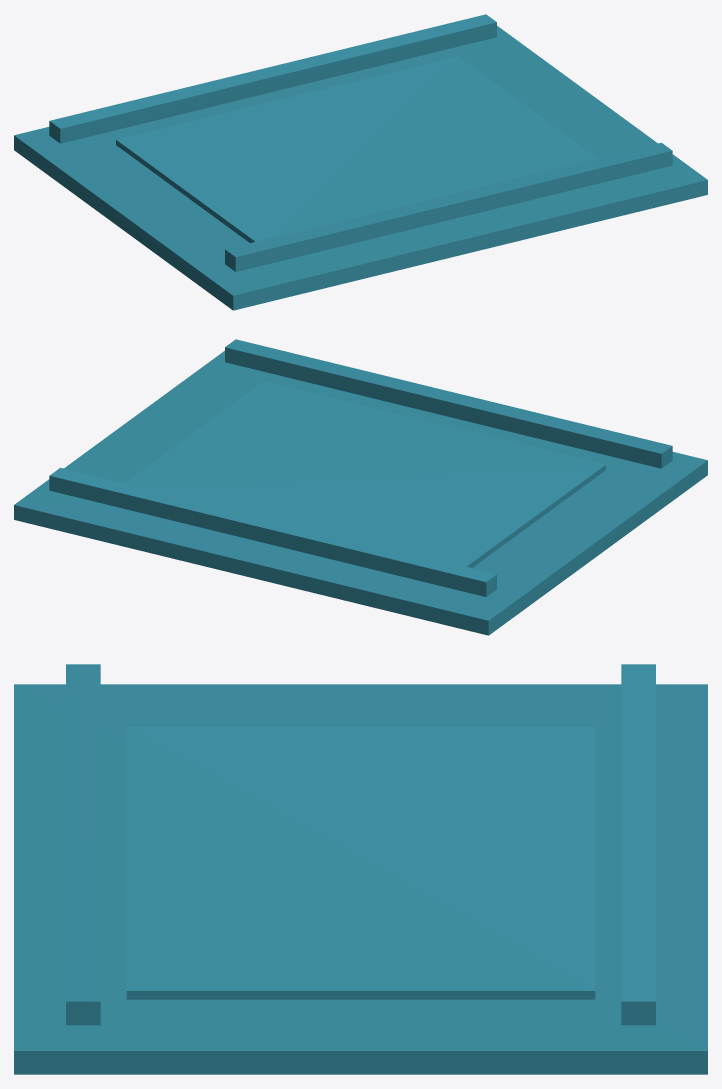
The model's file is Pond.glb.
3 renders of one model, top to bottom at view 1: azimuth 30°, elevation 25°; view 2: azimuth 150°, elevation 25°; view 3: azimuth 270°, elevation 25°, orthographic. The views are drawn at different scales.
Parts seen in each view (by area): view 1: pond-static-pond-teal, pond-static-pond-earth, pond-static-pond-timber; view 2: pond-static-pond-teal, pond-static-pond-earth, pond-static-pond-timber; view 3: pond-static-pond-teal, pond-static-pond-earth, pond-static-pond-timber.
Boxes of the visible parts, bbox=[...] form: pond-static-pond-teal: bbox=[116, 56, 596, 242]; pond-static-pond-earth: bbox=[14, 26, 707, 310]; pond-static-pond-timber: bbox=[49, 14, 672, 271]; pond-static-pond-teal: bbox=[125, 381, 605, 567]; pond-static-pond-earth: bbox=[14, 351, 707, 635]; pond-static-pond-timber: bbox=[49, 339, 672, 596]; pond-static-pond-teal: bbox=[126, 727, 595, 999]; pond-static-pond-earth: bbox=[14, 684, 707, 1074]; pond-static-pond-timber: bbox=[66, 664, 655, 1025].
Bounding box in the file's own units: 5 × 0.37 × 4.
